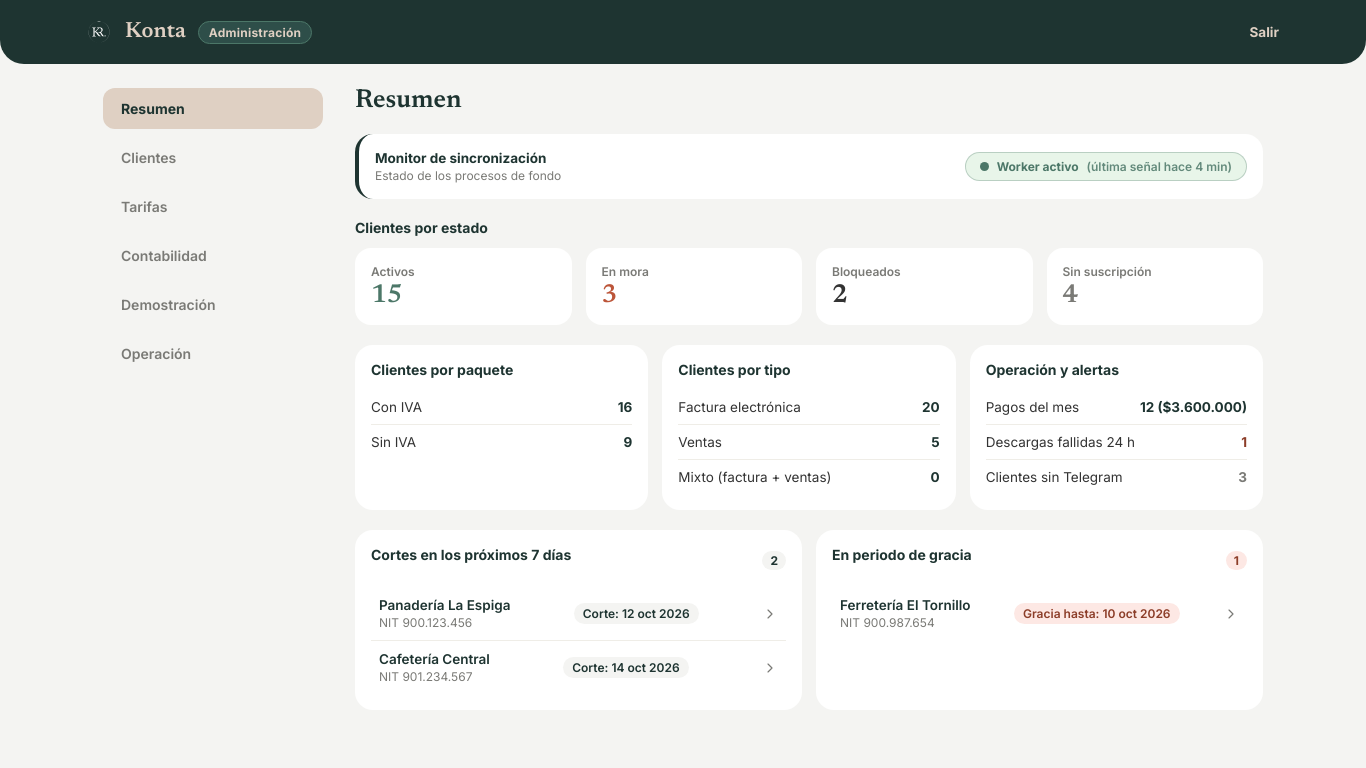
it: AdminShell (Story 8.2) › Layout y marcadores (AC #8) › ADMIN puede navegar entre pestañas usando los enlaces
The width and height of the screenshot is (1366, 768).
Check: the heading "Resumen" is shown, box top-left (355, 88), bottom-right (462, 114)
Click the link "Clientes": click(149, 158) top-left (121, 149), bottom-right (176, 166)
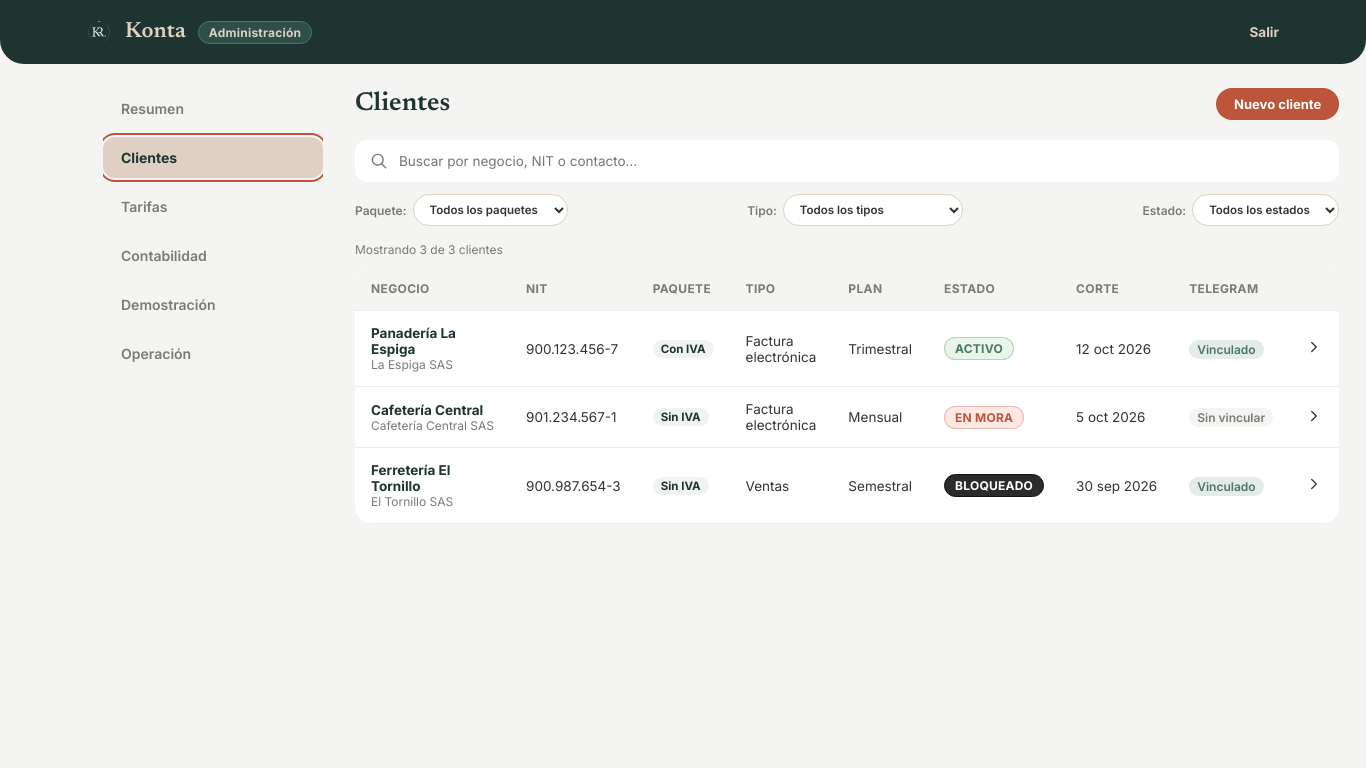
Check: the heading "Clientes" is shown, box top-left (355, 91), bottom-right (450, 117)
Click the link "Operación": click(156, 354) top-left (121, 345), bottom-right (191, 362)
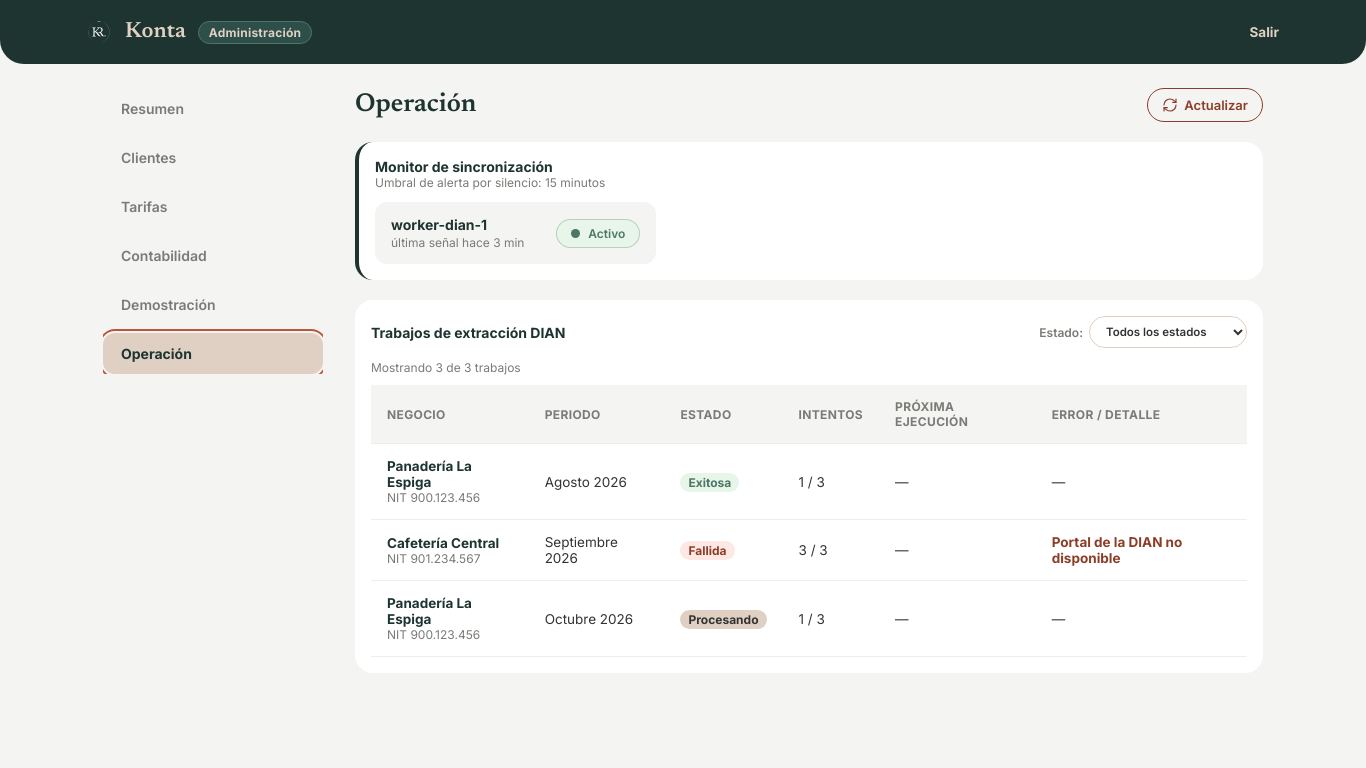
Check: the heading "Operación" is shown, box top-left (355, 92), bottom-right (476, 118)
Click the link "Resumen": click(152, 108) top-left (121, 100), bottom-right (184, 117)
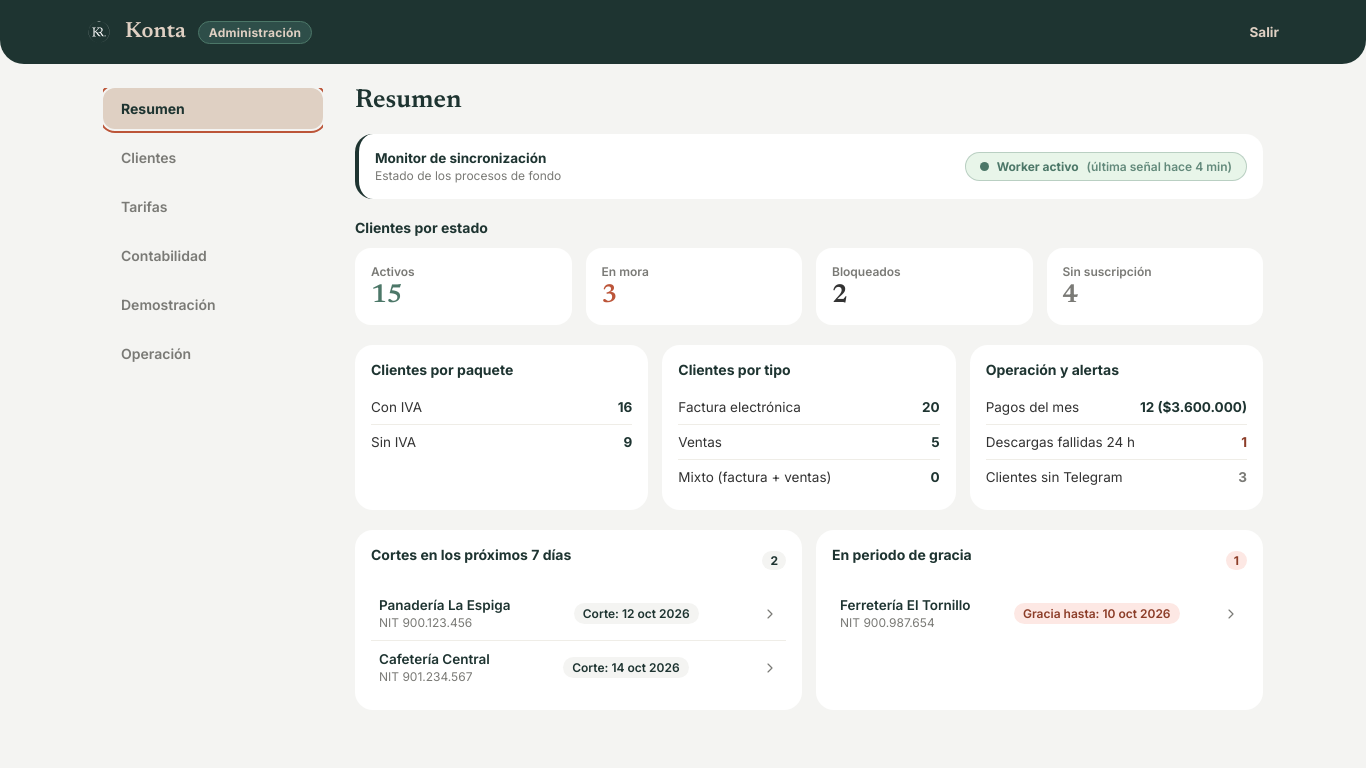
Check: the heading "Resumen" is shown, box top-left (355, 88), bottom-right (462, 114)
